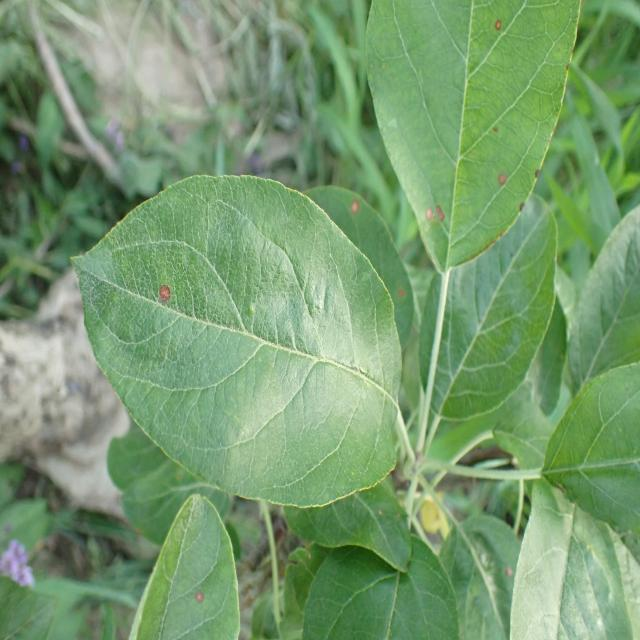Black Rot: (422, 188, 447, 240), (391, 276, 418, 320), (155, 271, 175, 317), (486, 0, 508, 40), (492, 156, 511, 197), (191, 578, 212, 612), (341, 190, 367, 217)
